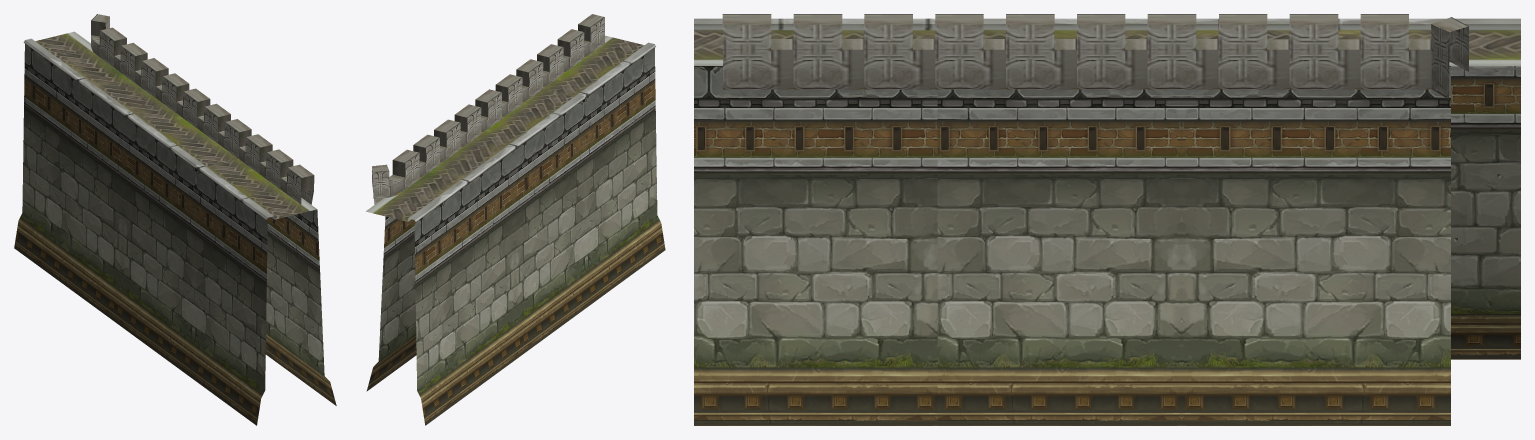
The model's file is DN_mcwall04.FBX.
3 renders of one model, left to right at view 1: azimuth 30°, elevation 25°; view 2: azimuth 150°, elevation 25°; view 3: azimuth 270°, elevation 25°, orthographic. The views are drawn at different scales.
Visible parts, largest first — view 1: DN_mcwall04; view 2: DN_mcwall04; view 3: DN_mcwall04.
Boxes of the visible parts, bbox=[...] form: DN_mcwall04: bbox=[14, 14, 336, 425]; DN_mcwall04: bbox=[366, 14, 665, 425]; DN_mcwall04: bbox=[694, 14, 1520, 425].
Bounding box in the file's own units: 481 × 1315 × 2529.
